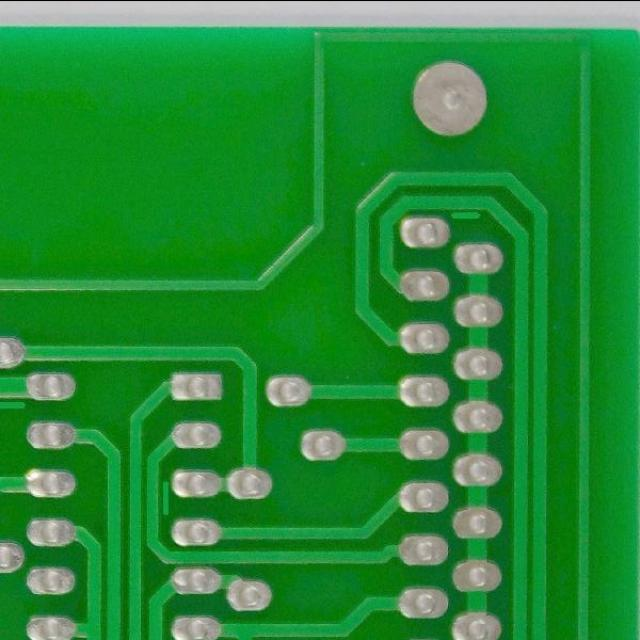Spurious_Cooper: (447, 208, 485, 224), (0, 396, 31, 415), (159, 476, 173, 518)
